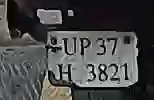1: (122, 58, 130, 82)
2: (108, 60, 122, 84)
3: (92, 34, 107, 59), (83, 59, 97, 83)
7: (107, 32, 119, 58)
8: (97, 60, 108, 85)
H: (55, 62, 76, 83)
P: (79, 36, 95, 59)
U: (61, 35, 77, 58)
